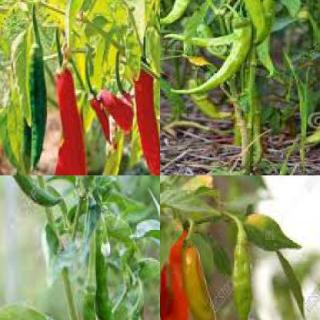green_chilli: (170, 17, 250, 98), (96, 228, 159, 319), (72, 286, 148, 320), (28, 44, 46, 172), (228, 238, 254, 320), (224, 0, 270, 45), (185, 80, 233, 122), (253, 0, 277, 77), (160, 0, 209, 26), (236, 117, 254, 172), (251, 109, 267, 166)
